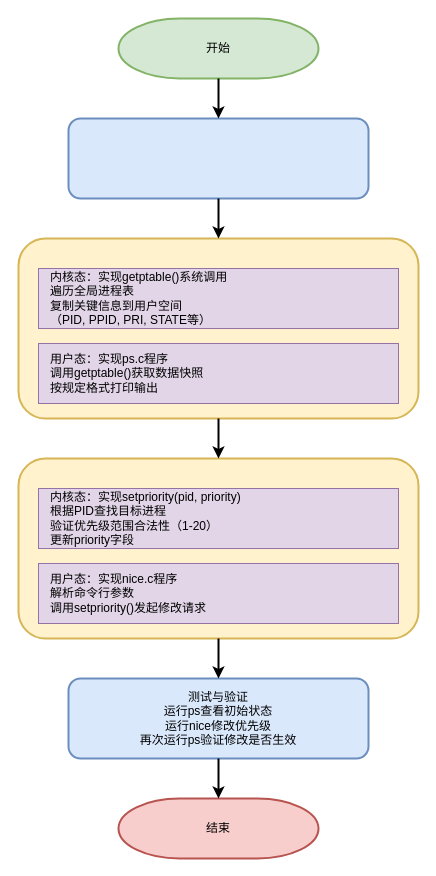
The diagram is 436 pixels wide and 876 high, and some of its shapes have lost their labels. Here are the shapes that lost their labels. From the top down, the box of each, then its label:
(67, 117, 369, 199): 内核准备 修改内核进程控制块（PCB） 添加Priority字段
(17, 237, 419, 419): 实现进程信息查看功能（ps命令）
(17, 457, 419, 639): 实现进程优先级修改功能（nice命令）
